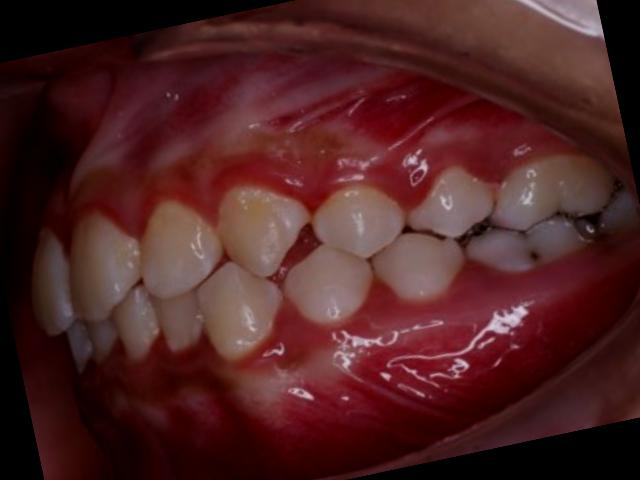canine class II 1/4: (169, 154, 383, 375)
molar class I: (449, 142, 639, 310)
